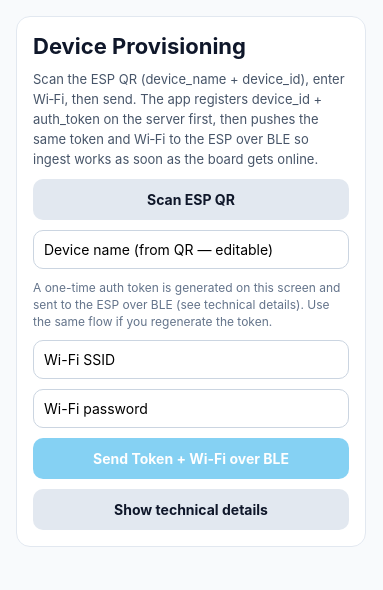
Test: ProvisionDeviceScreen › denies camera permission when request fails
This screenshot has width=383, height=590.
Click the text "Scan ESP QR": x=191, y=200 [147,191,235,208]
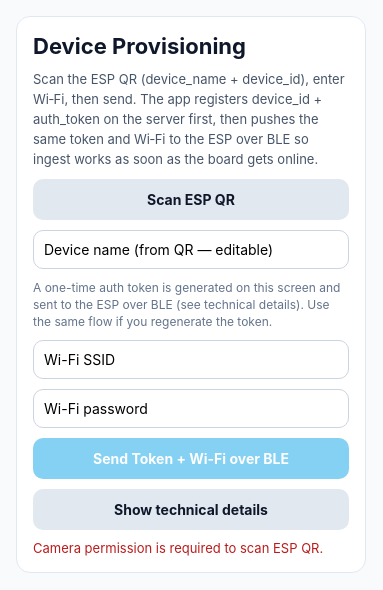
Now the text "Camera permission is required to scan ESP QR." is shown, box [33,540,349,556]
